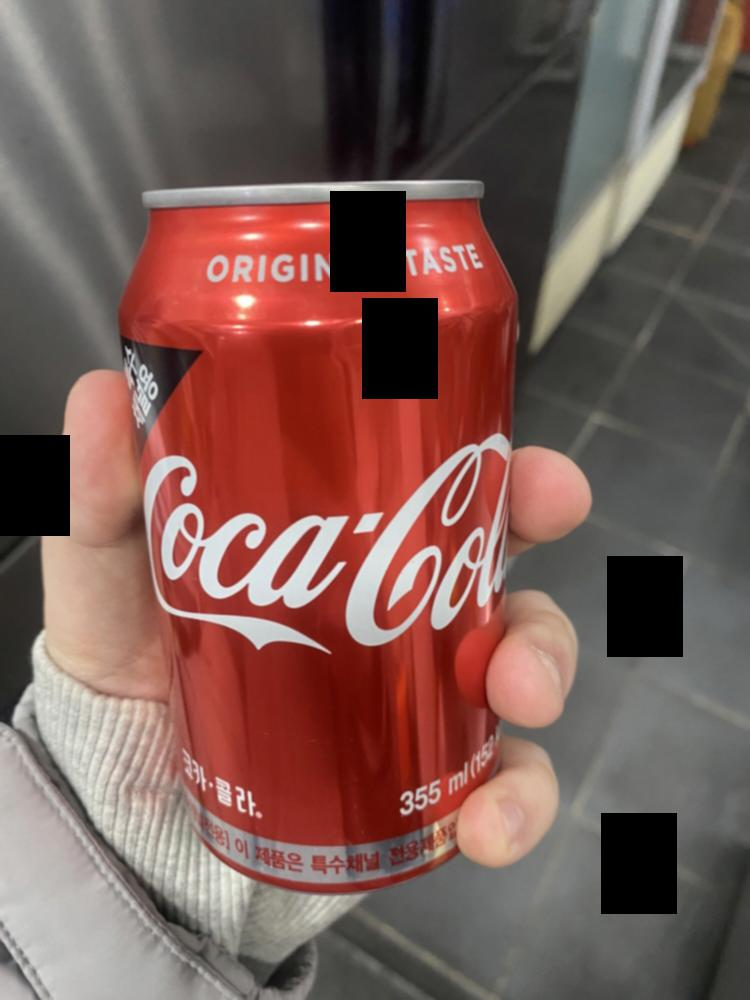cocacola: (111, 184, 517, 884)
